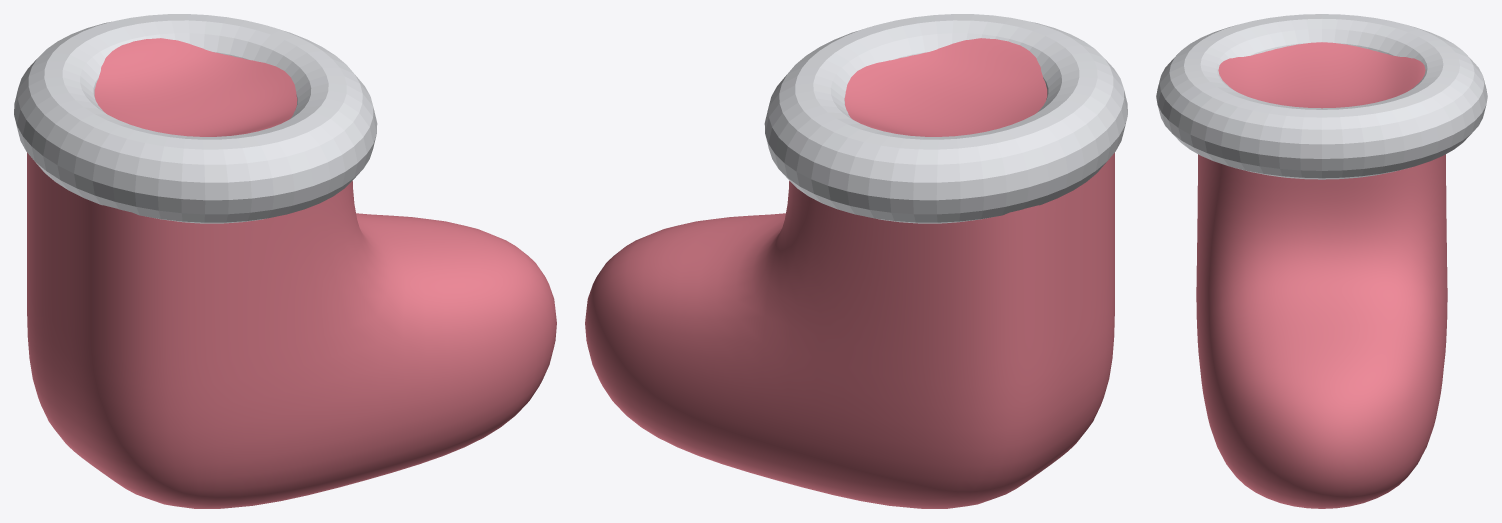
3 views of the same model, side by side, from view 1: azimuth 30°, elevation 25°; view 2: azimuth 150°, elevation 25°; view 3: azimuth 270°, elevation 25° (orthographic). The views are drawn at different scales.
Parts seen in each view (by area): view 1: 立方体.089, 环体.013; view 2: 立方体.089, 环体.013; view 3: 立方体.089, 环体.013.
Boxes of the visible parts, box(x1,y1,x2,y2) form: 立方体.089: box(27, 38, 556, 508); 环体.013: box(14, 14, 377, 223); 立方体.089: box(585, 38, 1114, 508); 环体.013: box(764, 14, 1127, 223); 立方体.089: box(1196, 42, 1447, 508); 环体.013: box(1156, 14, 1487, 179).
Bounding box in the file's own units: 243 × 187 × 166.
